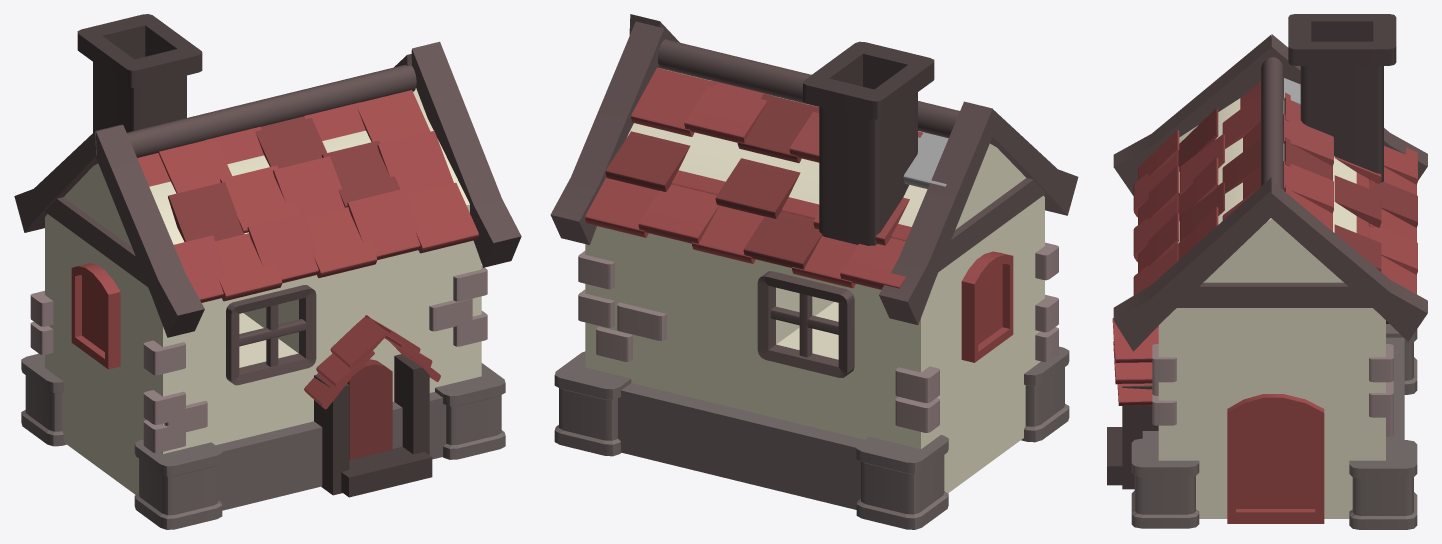
Rendered from House_01.fbx.
The picture shows the model from 3 angles, left to right: view 1: azimuth 30°, elevation 25°; view 2: azimuth 150°, elevation 25°; view 3: azimuth 270°, elevation 25°; orthographic projection. The views are drawn at different scales.
Parts seen in each view (by area): view 1: en_house1:h6; view 2: en_house1:h6; view 3: en_house1:h6.
Boxes of the visible parts, <box> form: en_house1:h6: <box>14,14,521,529</box>; en_house1:h6: <box>550,14,1078,529</box>; en_house1:h6: <box>1107,14,1427,529</box>.
Bounding box in the file's own units: 87.4 × 93.3 × 72.3.
